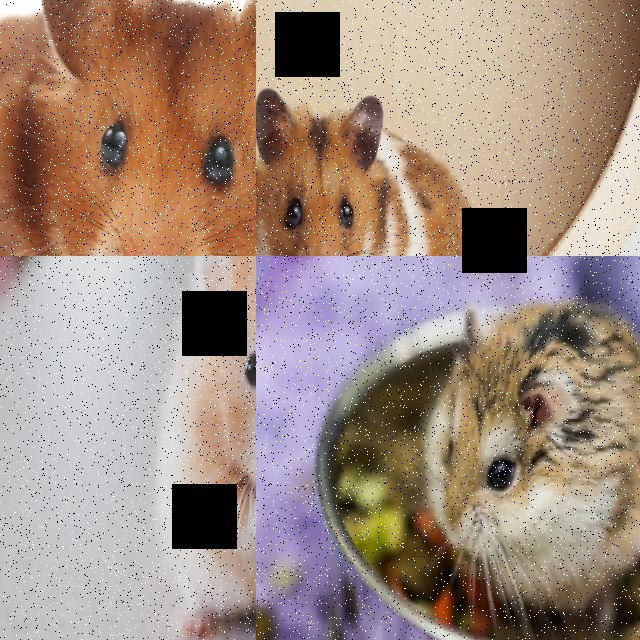hamster: (413, 286, 640, 614), (0, 0, 256, 256), (256, 84, 534, 256), (147, 256, 256, 640)
